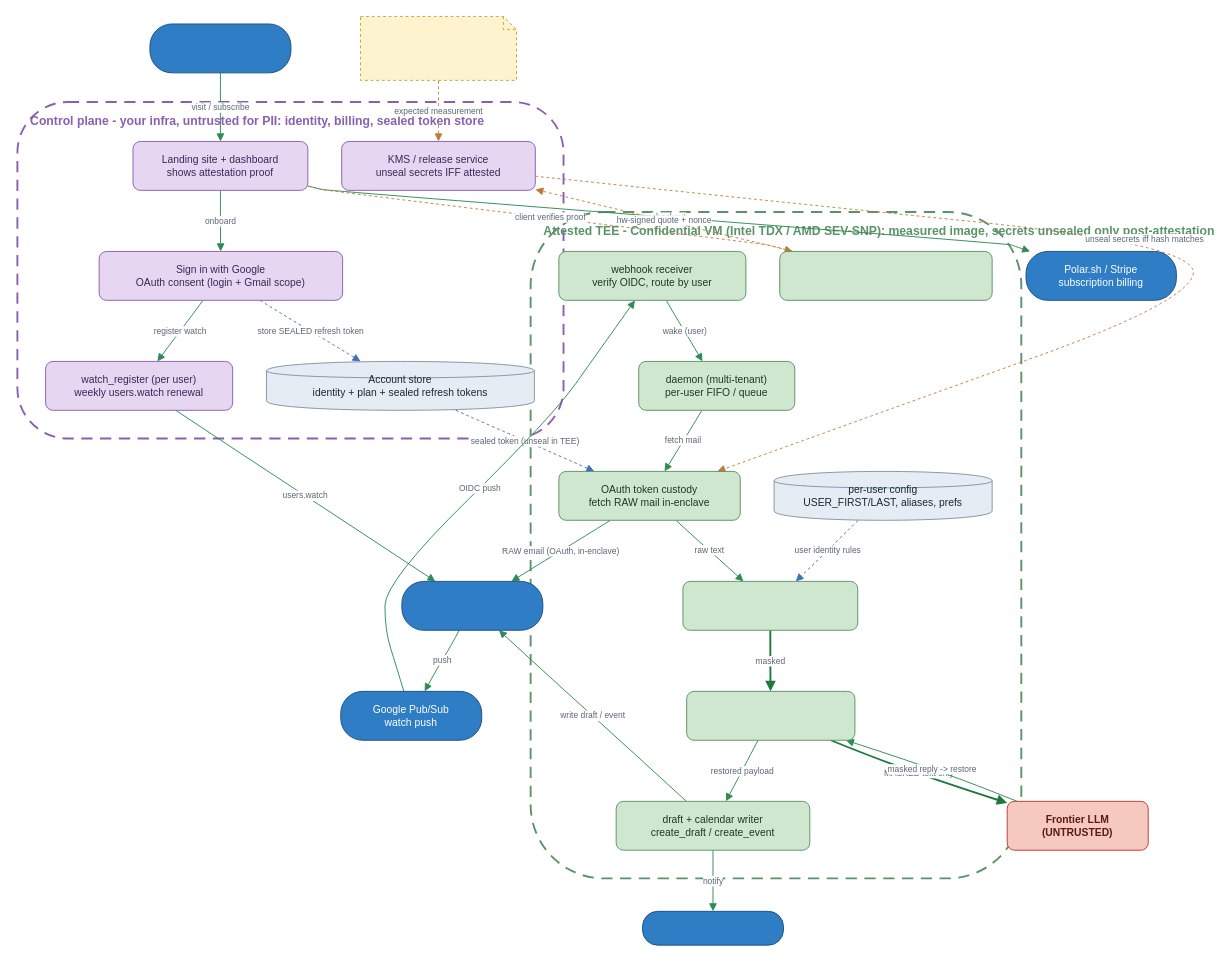
The diagram is 1230 pixels wide and 962 high, and some of its shapes have lost their labels. Here are the shapes that lost their labels. From the top down, the centre of each, then its label:
At (x=220, y=48): "End user (browser)".
At (x=438, y=48): "Open-source repo reproducible build -> published image hash".
At (x=885, y=275): "Attestation agent hw-signed measurement -> quote".
At (x=472, y=605): "Gmail + Calendar (user mailbox)".
At (x=770, y=605): "pseudonymizer (per user) Presidio PII masking".
At (x=770, y=715): "llm_client.complete() mask -> call -> restore".
At (x=712, y=927): "Telegram / notify".
